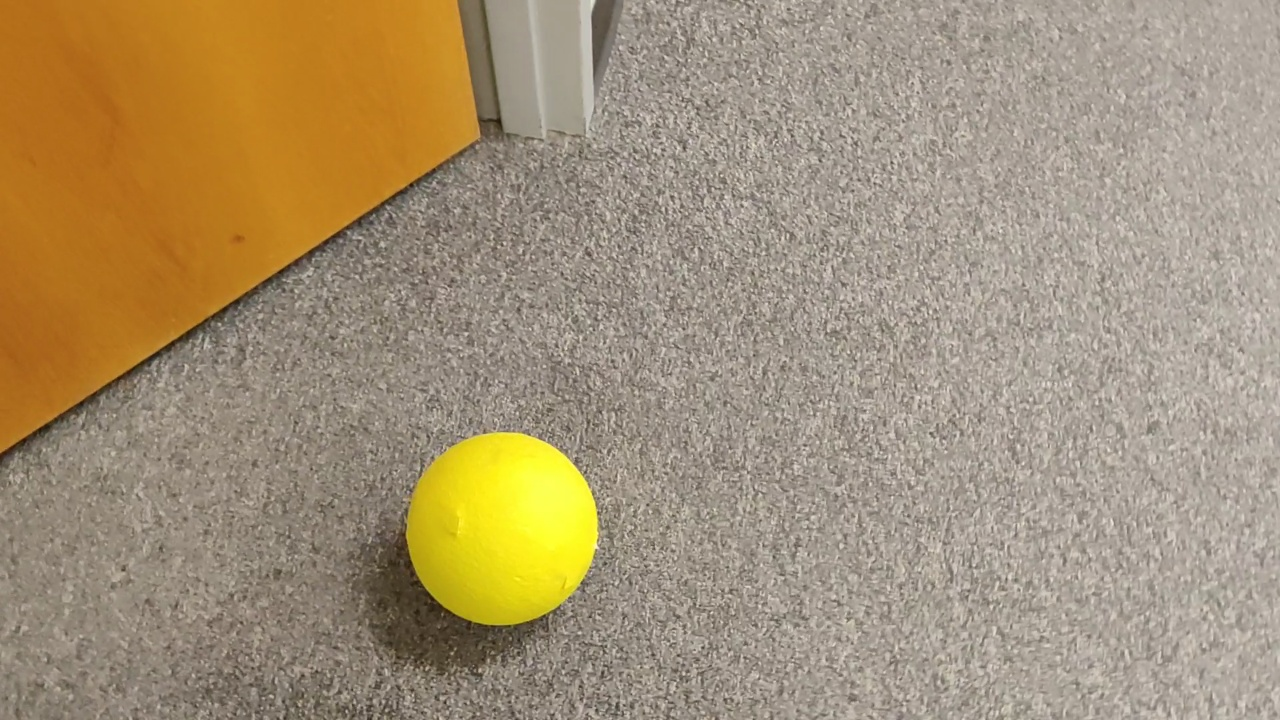Ball: (408, 428, 591, 625)
